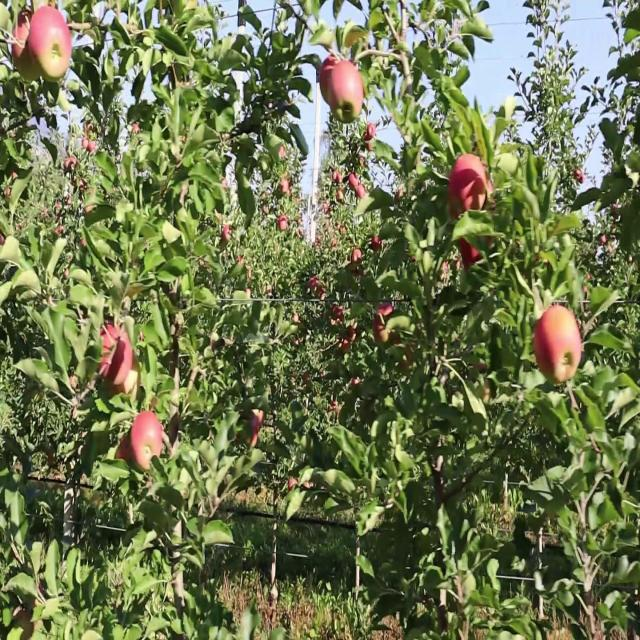apple: (532, 305, 584, 384), (32, 7, 72, 84), (448, 156, 495, 219), (100, 327, 135, 396), (132, 412, 165, 471), (336, 63, 365, 126), (16, 583, 46, 639), (12, 14, 39, 76), (12, 14, 32, 71), (320, 56, 340, 108), (372, 305, 395, 347), (460, 234, 483, 270), (116, 433, 134, 464), (308, 277, 324, 299), (332, 305, 344, 327), (248, 426, 260, 448), (328, 398, 340, 420), (252, 412, 264, 432), (348, 327, 358, 343)
